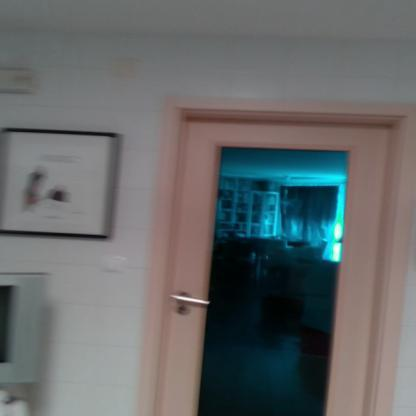door: (158, 121, 378, 416)
lever: (170, 293, 212, 309)
